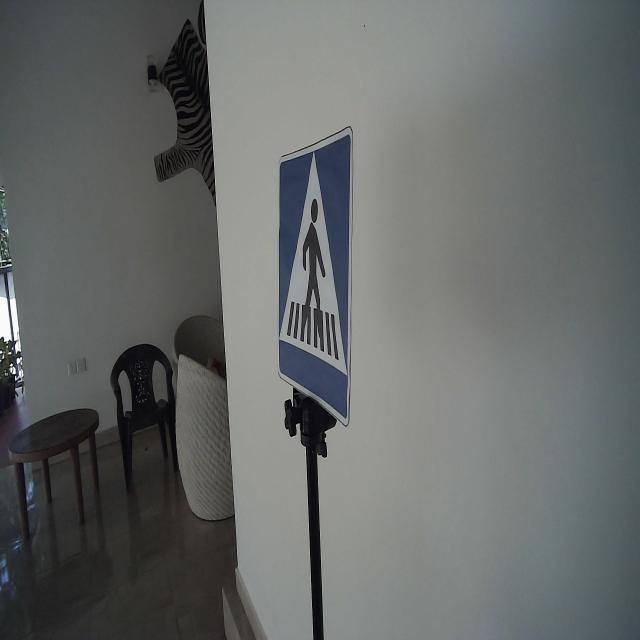crosswalk_sign: (275, 122, 356, 430)
